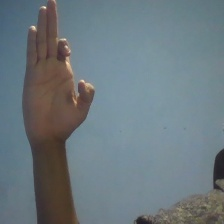F: (16, 1, 98, 144)
